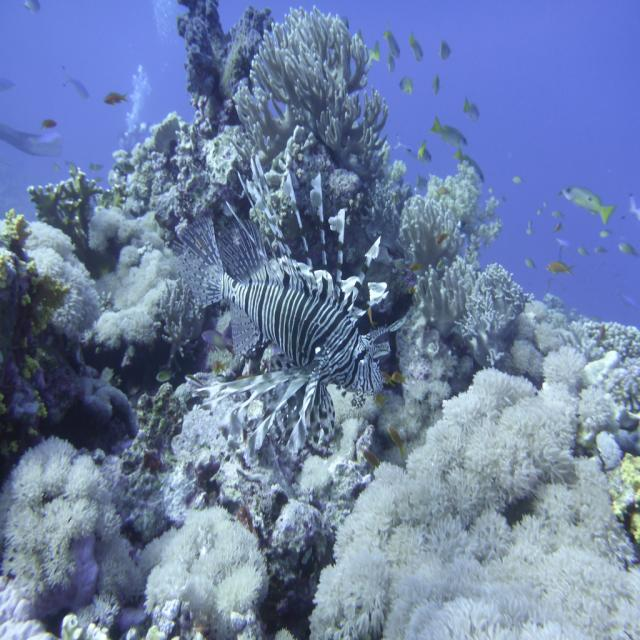Aslan Baligi: (170, 153, 410, 466)
